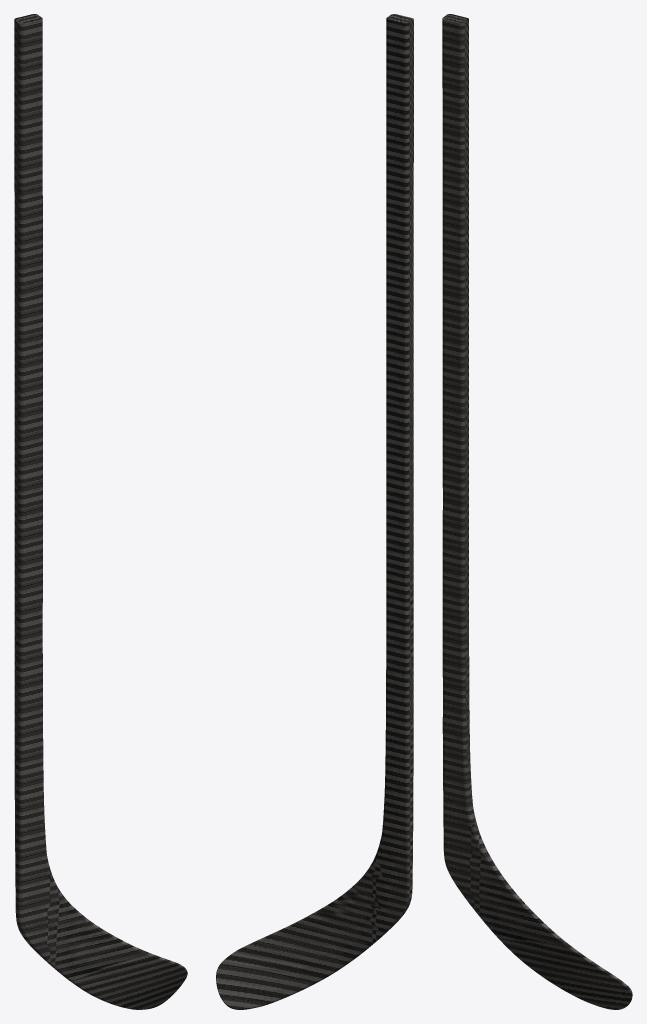
3 views of the same model, side by side, from view 1: azimuth 30°, elevation 25°; view 2: azimuth 150°, elevation 25°; view 3: azimuth 330°, elevation 25° (orthographic). The views are drawn at different scales.
Parts seen in each view (by area): view 1: geometry_0; view 2: geometry_0; view 3: geometry_0.
Part boxes in pixels (x1,y1,x2,y2): geometry_0: (14, 14, 187, 1009); geometry_0: (216, 14, 413, 1009); geometry_0: (442, 14, 632, 1009).
Size of the model in its own units: 236 by 1262 by 57.61.
Materials: 1 (1 with a texture image).
